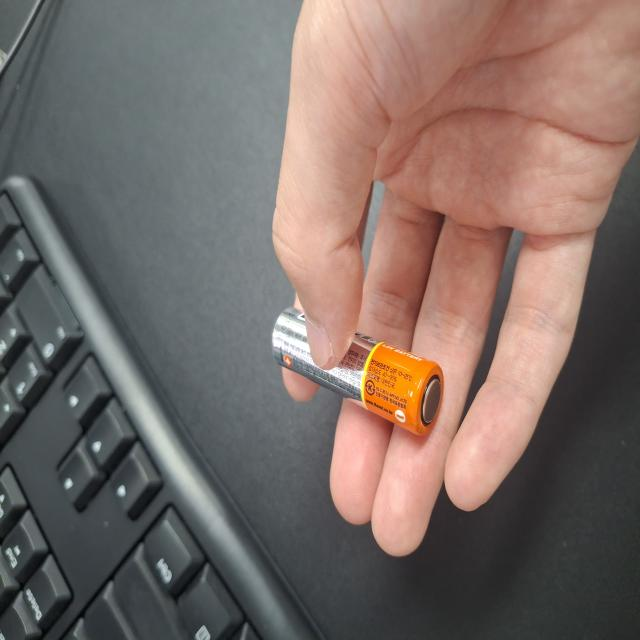AA: (154, 363, 249, 590)
